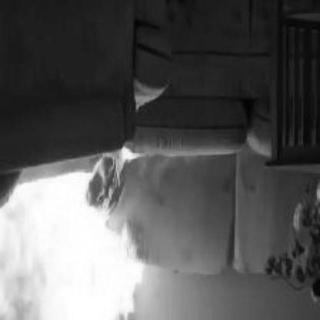Fire: (3, 158, 147, 318)
